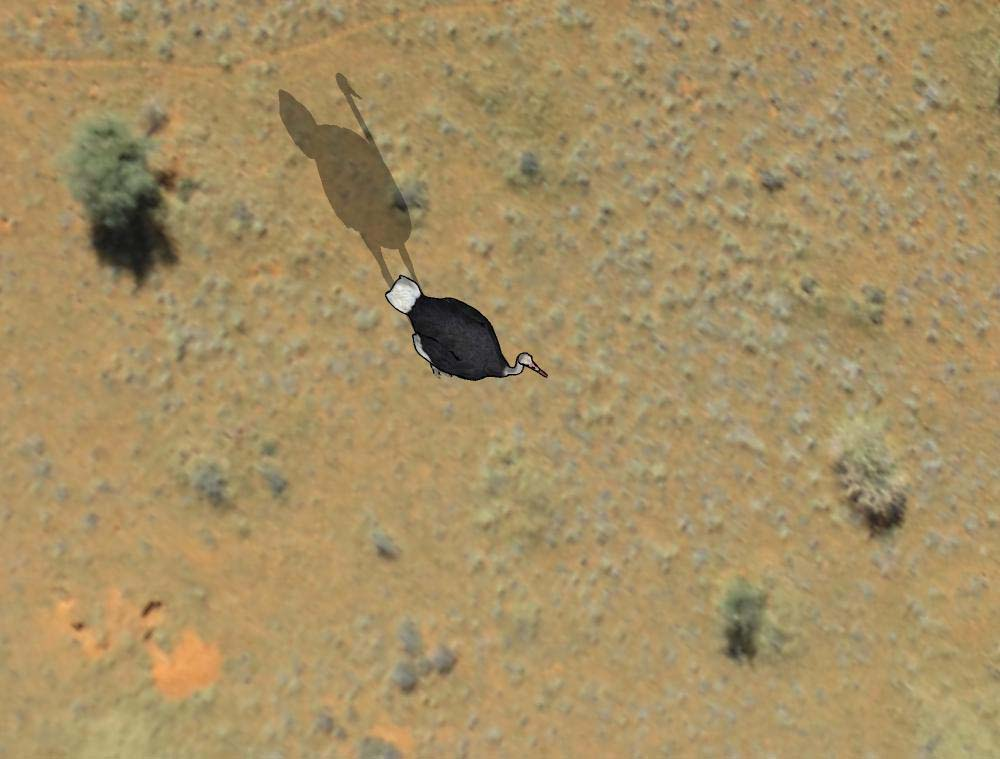ostrich: (368, 264, 552, 396)
